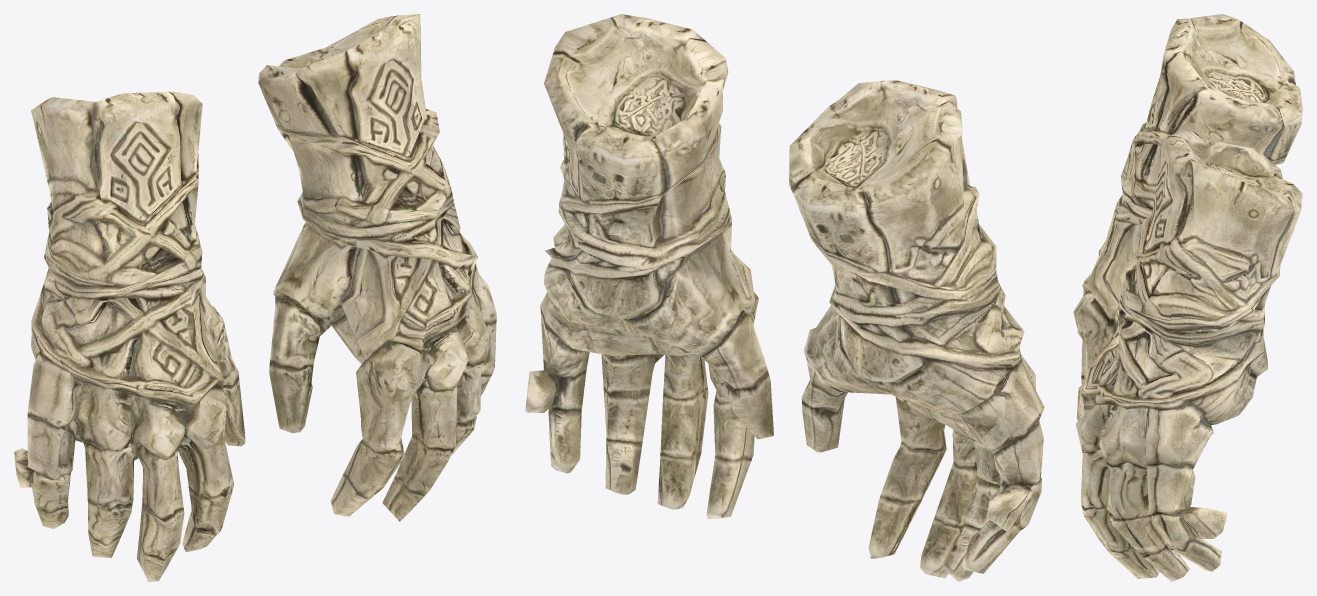
The model's file is Bone_Gloves_Armor.glb.
The picture shows the model from 3 angles, left to right: view 1: azimuth 30°, elevation 25°; view 2: azimuth 150°, elevation 25°; view 3: azimuth 270°, elevation 25°; orthographic projection. The views are drawn at different scales.
Bounding box in the file's own units: 1.89 × 1.83 × 0.8616.
1 material, 1 textured.
